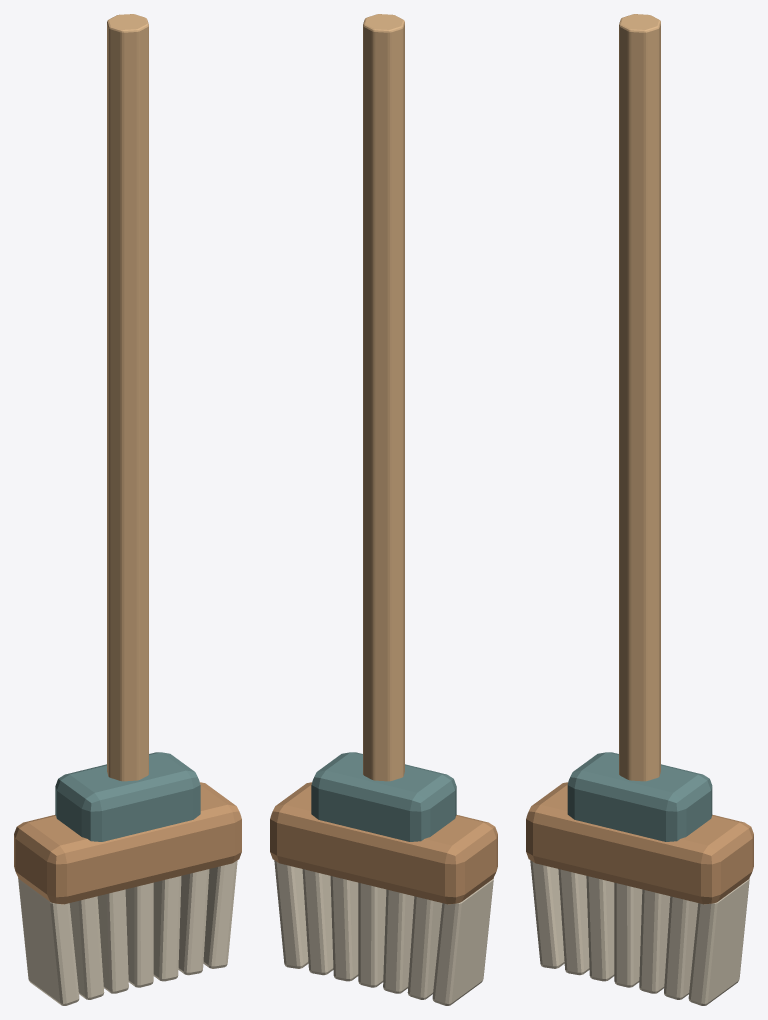
Rendered from broom.glb.
3 renders of one model, left to right at view 1: azimuth 30°, elevation 25°; view 2: azimuth 150°, elevation 25°; view 3: azimuth 330°, elevation 25°, orthographic.
Visible parts, largest first — view 1: broomHandle, broomHead, broomCollar, bristle01, bristle05, bristle04, bristle07, bristle06, bristle03, bristle02; view 2: broomHandle, broomHead, broomCollar, bristle01, bristle05, bristle04, bristle07, bristle06, bristle03, bristle02; view 3: broomHandle, broomHead, broomCollar, bristle07, bristle03, bristle04, bristle01, bristle02, bristle05, bristle06.
Boxes of the visible parts, x1,y1,x2,y2 form: broomHandle: (107,14,148,781); broomHead: (14,782,241,904); broomCollar: (55,752,200,841); bristle01: (18,878,79,1005); bristle05: (153,876,181,981); bristle04: (125,882,153,987); bristle07: (203,860,237,968); bristle06: (178,869,209,975); bristle03: (97,889,128,993); bristle02: (69,896,104,999); broomHandle: (363,14,404,781); broomHead: (270,782,497,904); broomCollar: (311,752,456,841); bristle01: (432,878,493,1005); bristle05: (330,876,358,981); bristle04: (358,882,386,987); bristle07: (274,860,308,968); bristle06: (302,869,333,975); bristle03: (383,889,414,993); bristle02: (407,896,442,999); broomHandle: (619,14,660,781); broomHead: (526,782,753,904); broomCollar: (567,752,712,841); bristle07: (688,878,749,1005); bristle03: (586,876,614,981); bristle04: (614,882,642,987); bristle01: (530,860,564,968); bristle02: (558,869,589,975); bristle05: (639,889,670,993); bristle06: (664,896,698,999).
Size of the model in its own units: 0.34 by 1.6 by 0.14.
